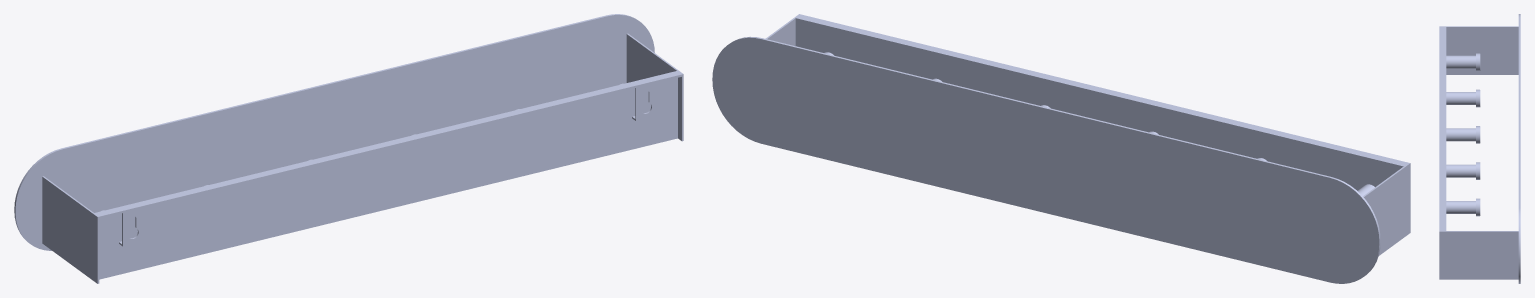
The model's file is round-hook.eb8533e931.glb.
3 renders of one model, left to right at view 1: azimuth 30°, elevation 25°; view 2: azimuth 150°, elevation 25°; view 3: azimuth 270°, elevation 25°, orthographic. The views are drawn at different scales.
Parts seen in each view (by area): view 1: NAUO1; view 2: NAUO1; view 3: NAUO1.
Boxes of the visible parts, box(x1,y1,x2,y2) form: NAUO1: box(14, 14, 683, 283); NAUO1: box(712, 14, 1410, 283); NAUO1: box(1439, 14, 1520, 283).
Bounding box in the file's own units: 0.6 × 0.09 × 0.092.
